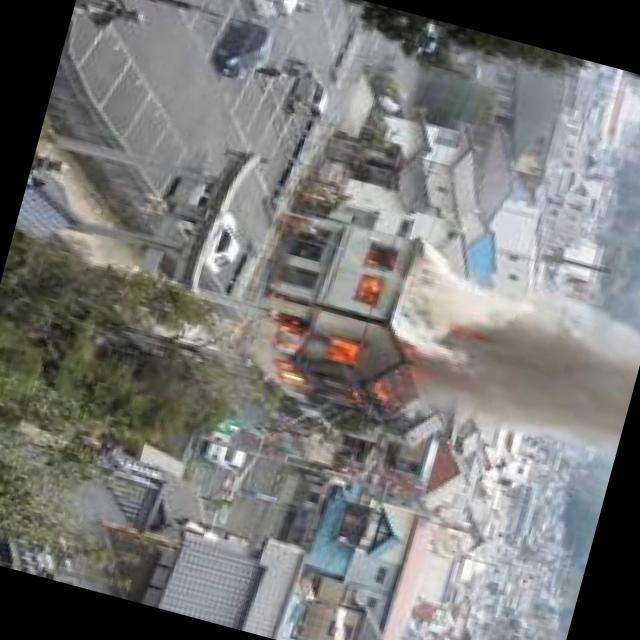Fire: (270, 316, 400, 416), (342, 267, 384, 311)
